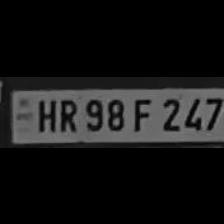2: (156, 92, 180, 132)
4: (180, 93, 202, 131)
7: (201, 93, 221, 131)
8: (103, 94, 127, 130)
9: (79, 94, 104, 130)
F: (128, 94, 154, 132)
H: (32, 94, 56, 132)
R: (55, 94, 79, 132)
